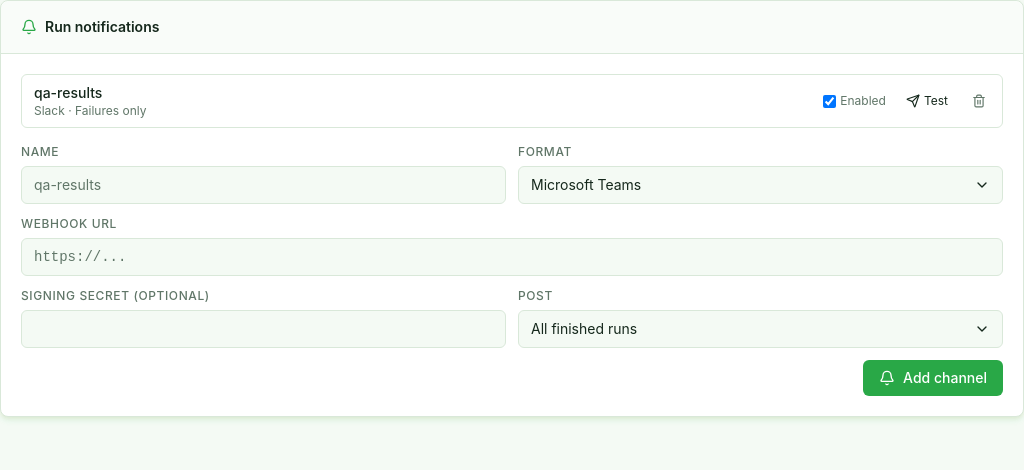
Run notifications settings › sends a test message and reports delivery
Click the button titled "Send a test message to qa-results".
click(927, 101)  # box [898,89,956,113]
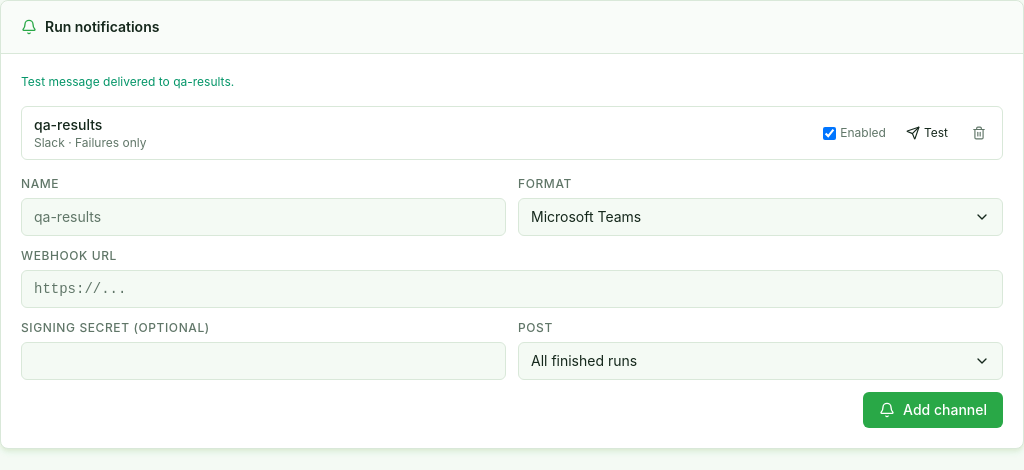
Expected: the text "Test message delivered to qa-results." is shown, [21,74,234,89]
